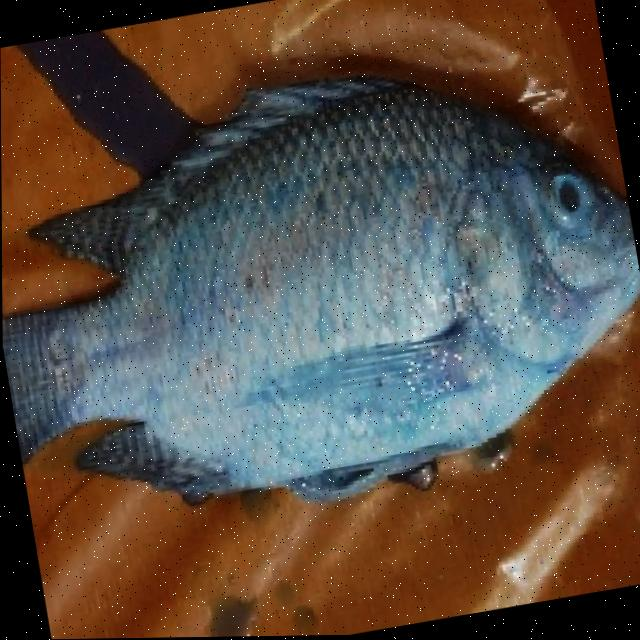Non-Fresh: (145, 35, 640, 487), (534, 155, 611, 232)
